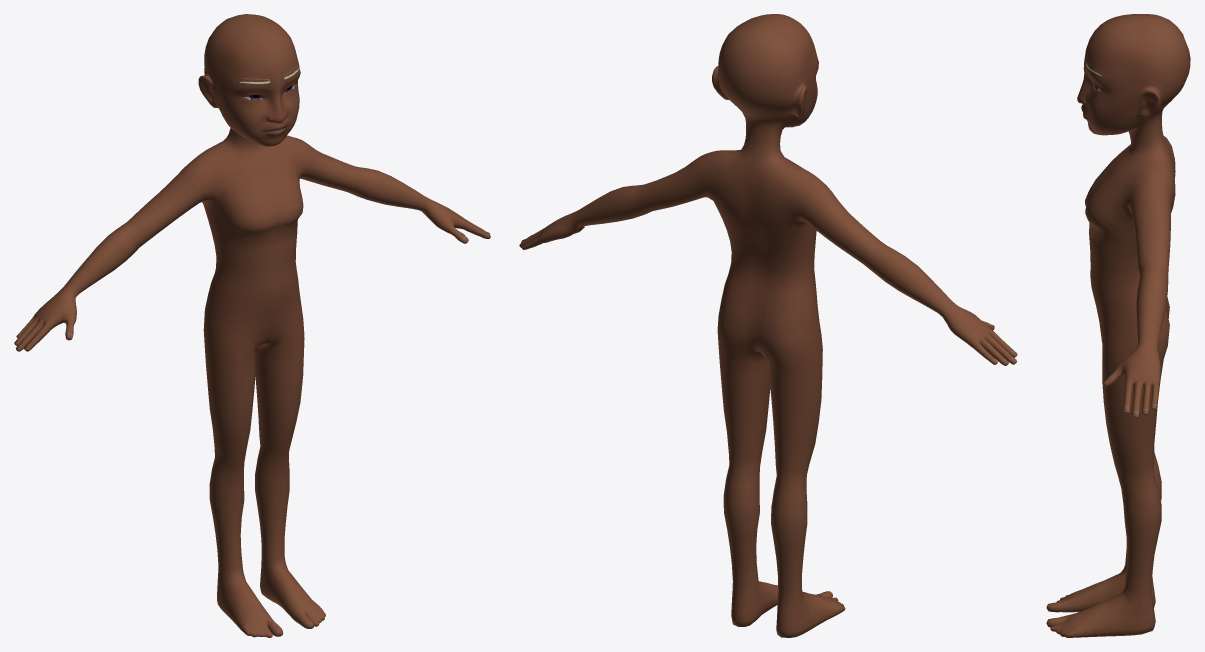
The model's file is frame_0008.glb.
3 renders of one model, left to right at view 1: azimuth 30°, elevation 25°; view 2: azimuth 150°, elevation 25°; view 3: azimuth 270°, elevation 25°, orthographic. The views are drawn at different scales.
Parts seen in each view (by area): view 1: frame_0008_head_geo; view 2: frame_0008_head_geo; view 3: frame_0008_head_geo.
Boxes of the visible parts, x1,y1,x2,y2 form: frame_0008_head_geo: [14, 14, 490, 637]; frame_0008_head_geo: [519, 14, 1017, 637]; frame_0008_head_geo: [1046, 14, 1190, 637].
Bounding box in the file's own units: 1.28 × 1.5 × 0.3253.
Materials: 3 (3 with a texture image).
